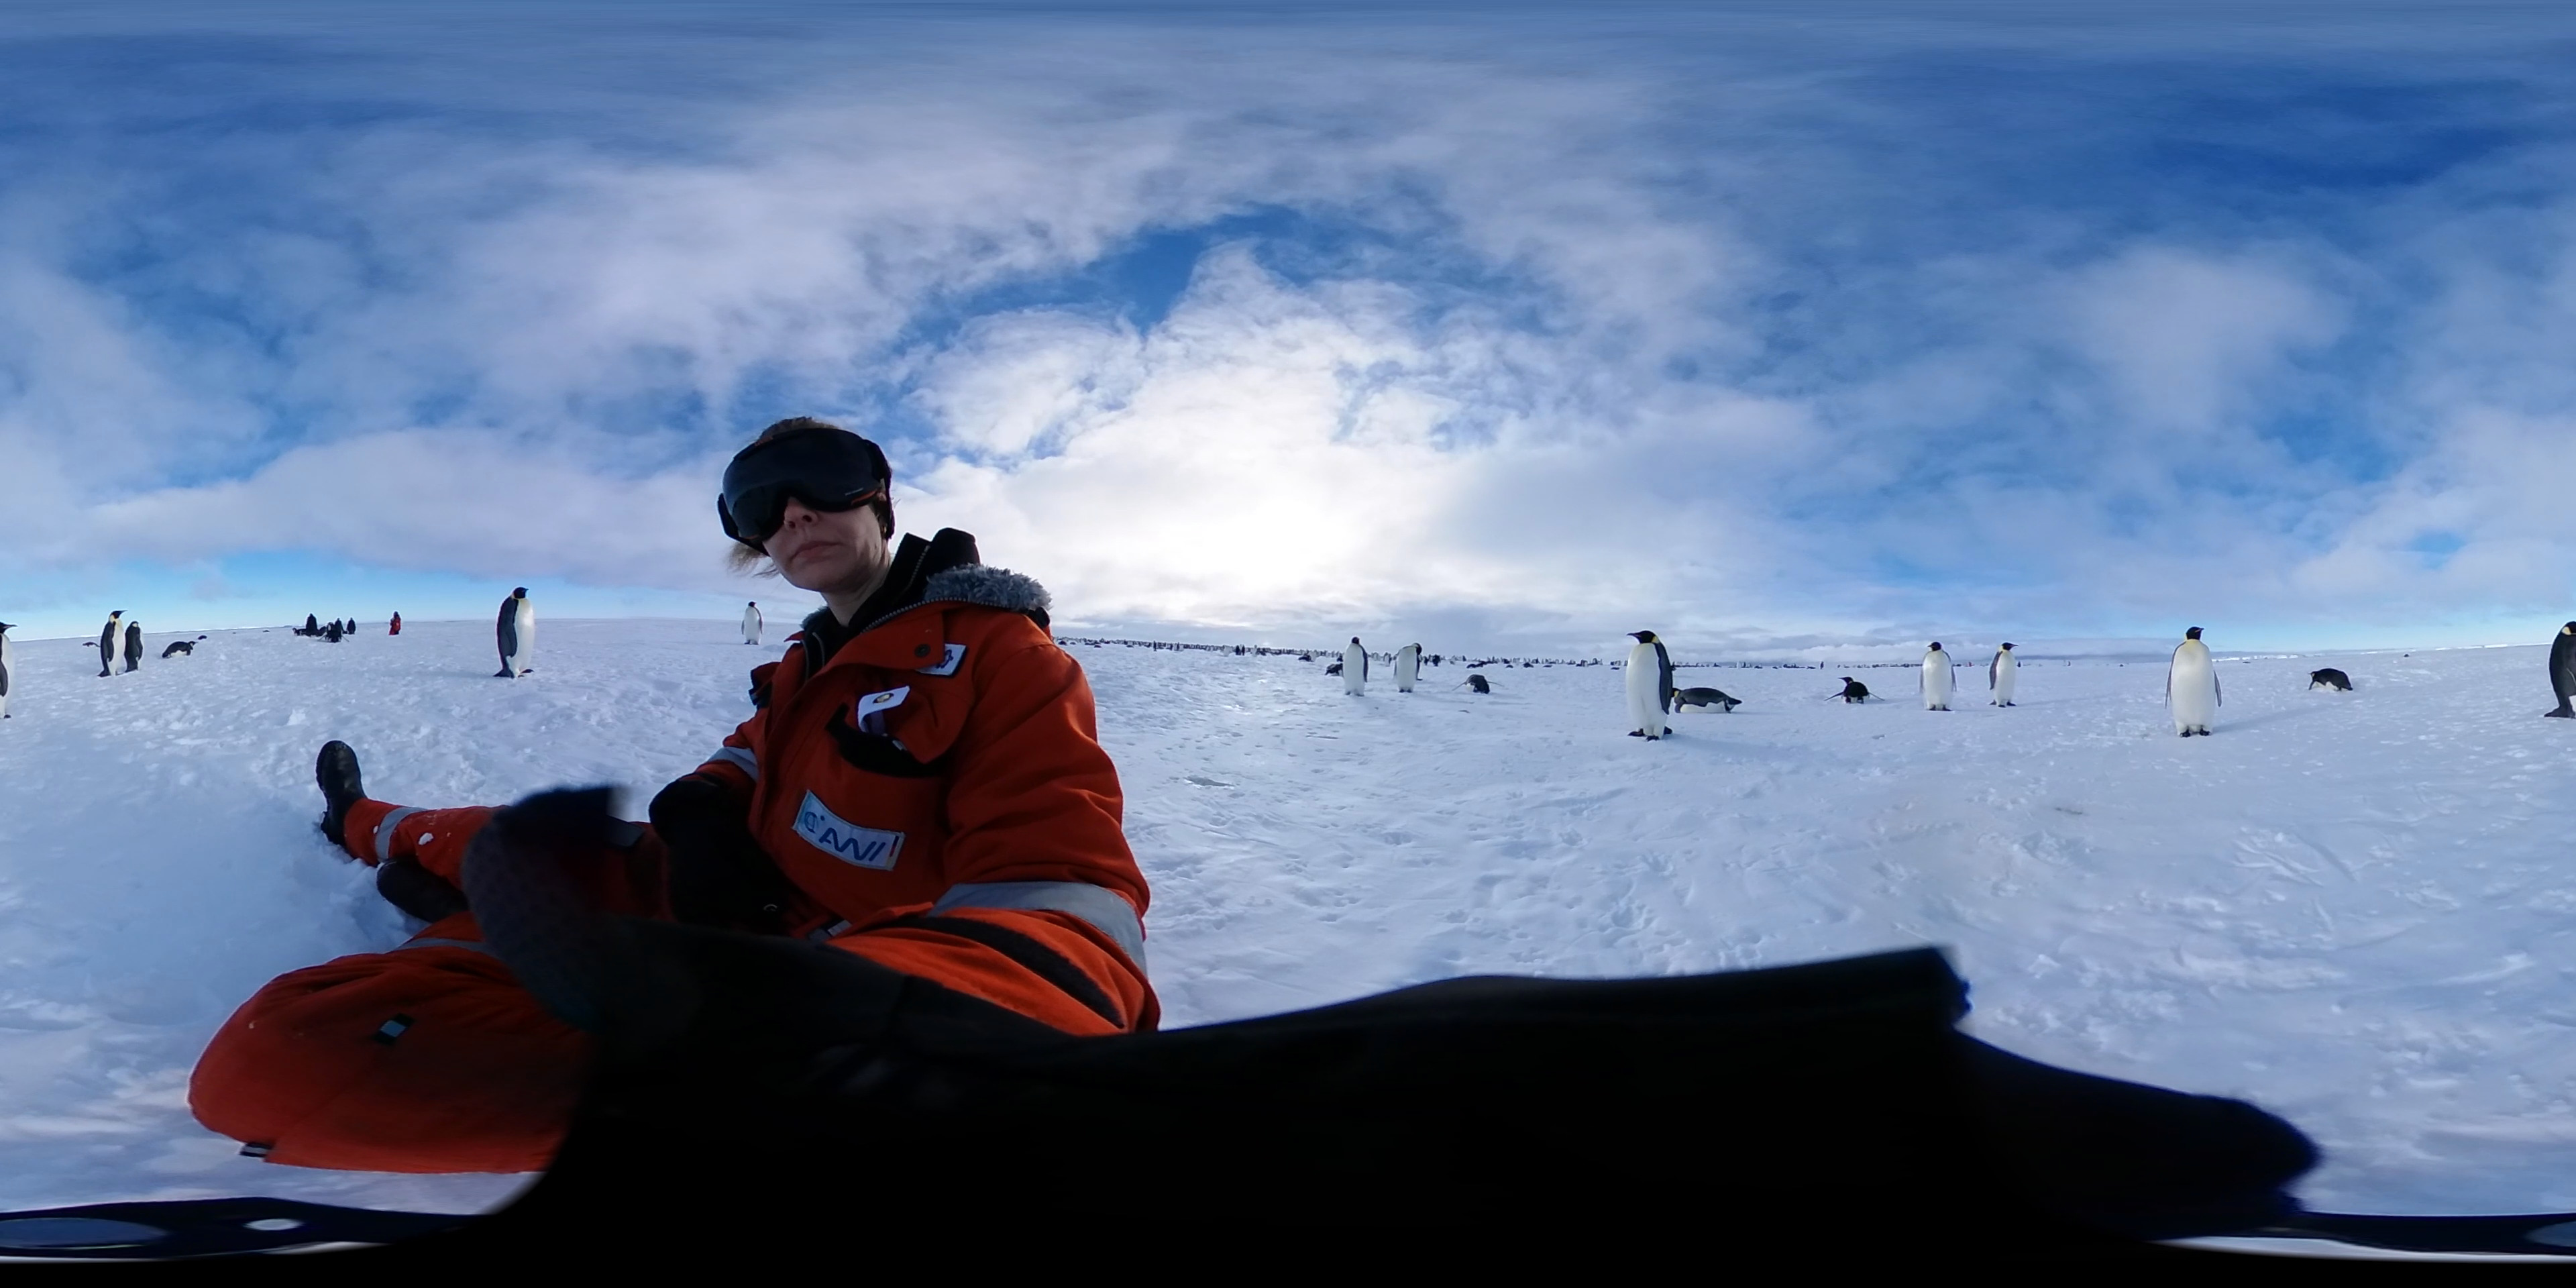adult_standing_penguin: (2155, 626, 2231, 738), (1623, 626, 1676, 743), (498, 585, 540, 682), (2546, 618, 2576, 720), (1919, 642, 1958, 716), (1986, 641, 2022, 710), (99, 608, 128, 682), (0, 611, 18, 724), (1391, 642, 1426, 697), (1342, 636, 1368, 697), (125, 618, 149, 677), (736, 601, 764, 647), (345, 618, 360, 636)
adult_toboggan_penguin: (1666, 685, 1743, 713), (1822, 675, 1886, 708), (2302, 670, 2356, 697), (1457, 674, 1500, 697), (161, 637, 197, 659)
researcher: (222, 399, 1181, 1288), (384, 609, 402, 636)
